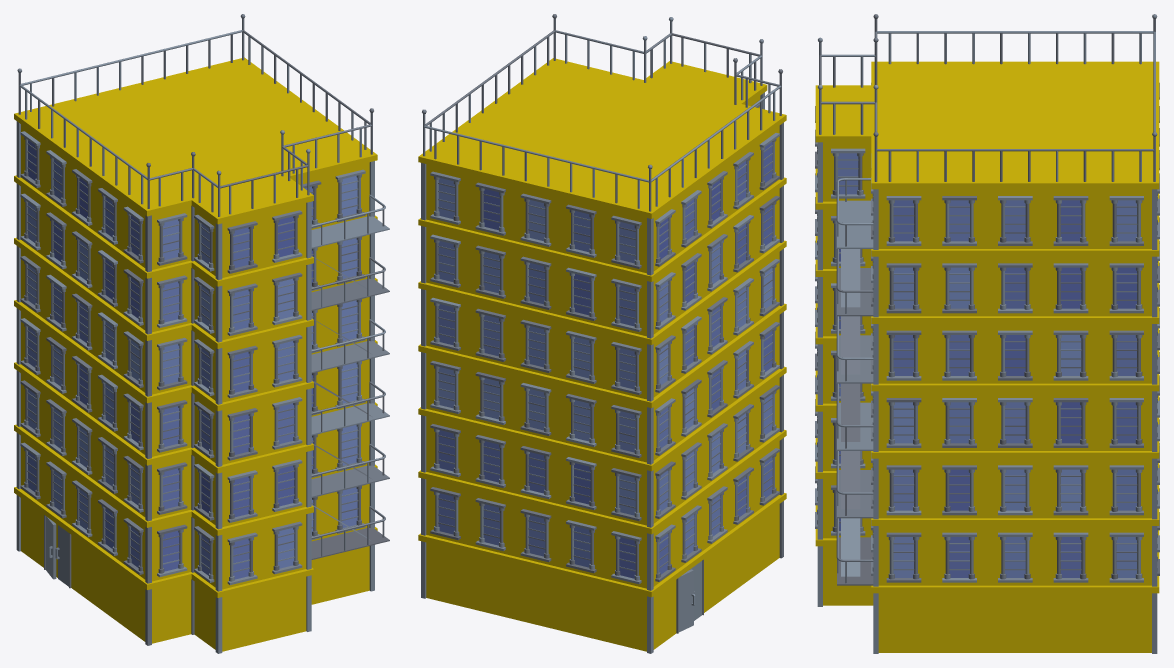
File: Building Procedural.012.fbx
The picture shows the model from 3 angles, left to right: view 1: azimuth 30°, elevation 25°; view 2: azimuth 150°, elevation 25°; view 3: azimuth 270°, elevation 25°; orthographic projection. The views are drawn at different scales.
Parts seen in each view (by area): view 1: Building Procedural.012; view 2: Building Procedural.012; view 3: Building Procedural.012.
Part boxes in pixels (bbox=[...]): Building Procedural.012: bbox=[14, 14, 389, 653]; Building Procedural.012: bbox=[418, 14, 786, 653]; Building Procedural.012: bbox=[815, 14, 1159, 653].
Size of the model in its own units: 1127 by 2210 by 1326.
